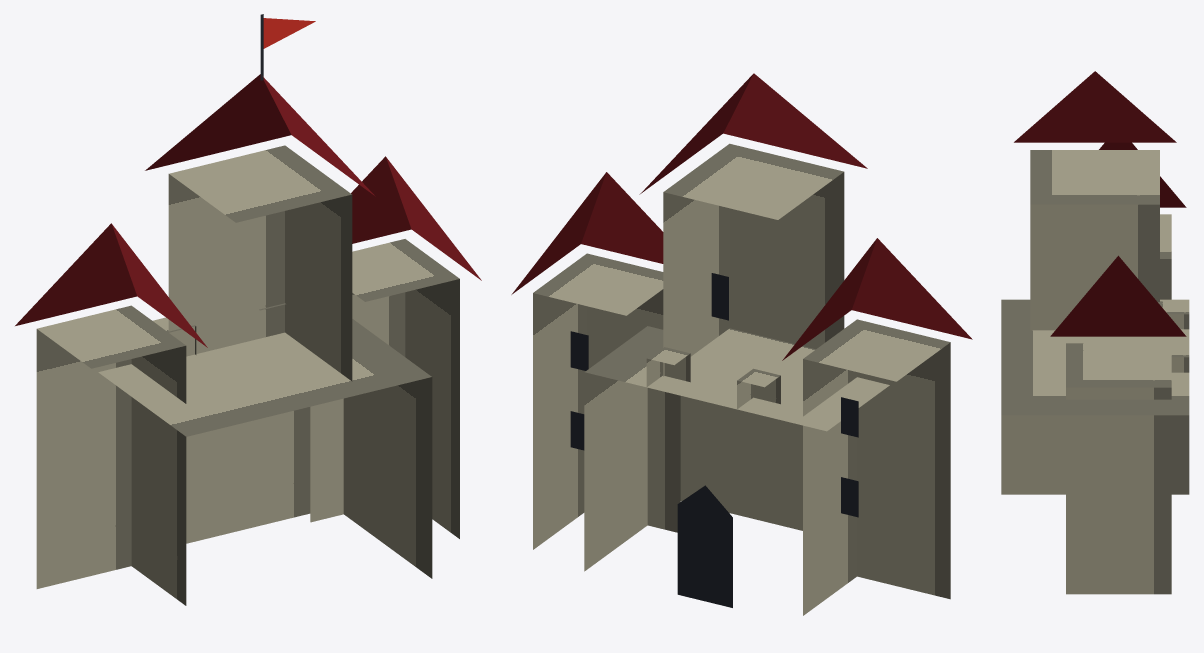
File: castle.gltf
The picture shows the model from 3 angles, left to right: view 1: azimuth 30°, elevation 25°; view 2: azimuth 150°, elevation 25°; view 3: azimuth 270°, elevation 25°; orthographic projection. The views are drawn at different scales.
Visible parts, largest first — view 1: castle; view 2: castle; view 3: castle.
Boxes of the visible parts, x1,y1,x2,y2 form: castle: (15, 14, 481, 605); castle: (511, 73, 972, 615); castle: (1001, 71, 1189, 594).
Bounding box in the file's own units: 11.31 × 15.2 × 4.83.
1 material, 1 textured.
